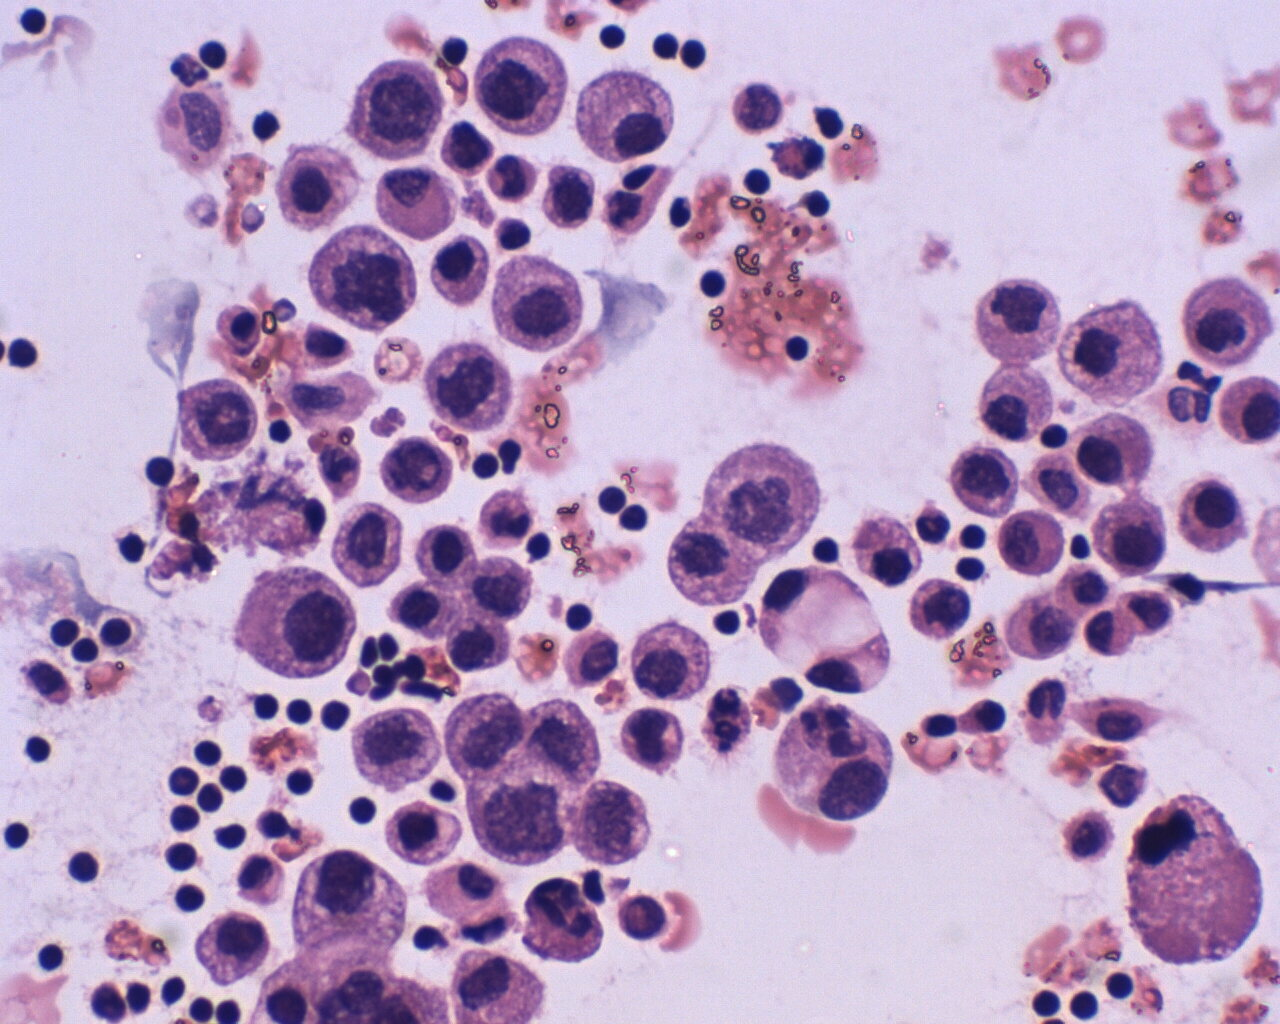ab: (232, 565, 363, 684), (772, 699, 893, 824), (704, 439, 827, 556), (302, 222, 419, 329), (296, 850, 406, 954), (349, 56, 451, 164), (473, 31, 571, 139), (463, 776, 574, 869), (416, 340, 518, 436), (563, 778, 664, 872), (972, 274, 1063, 369), (438, 689, 526, 784), (171, 377, 257, 465), (329, 501, 406, 591), (193, 908, 279, 990), (353, 705, 441, 784), (972, 360, 1052, 445), (1096, 490, 1168, 577), (377, 430, 457, 507), (949, 438, 1020, 514), (998, 508, 1069, 581), (907, 578, 972, 646), (444, 615, 514, 678)
lymph: (14, 2, 59, 43), (594, 18, 638, 54), (247, 686, 286, 725), (18, 729, 54, 769)
meso: (1176, 480, 1253, 551), (426, 864, 510, 923), (432, 233, 490, 311)
